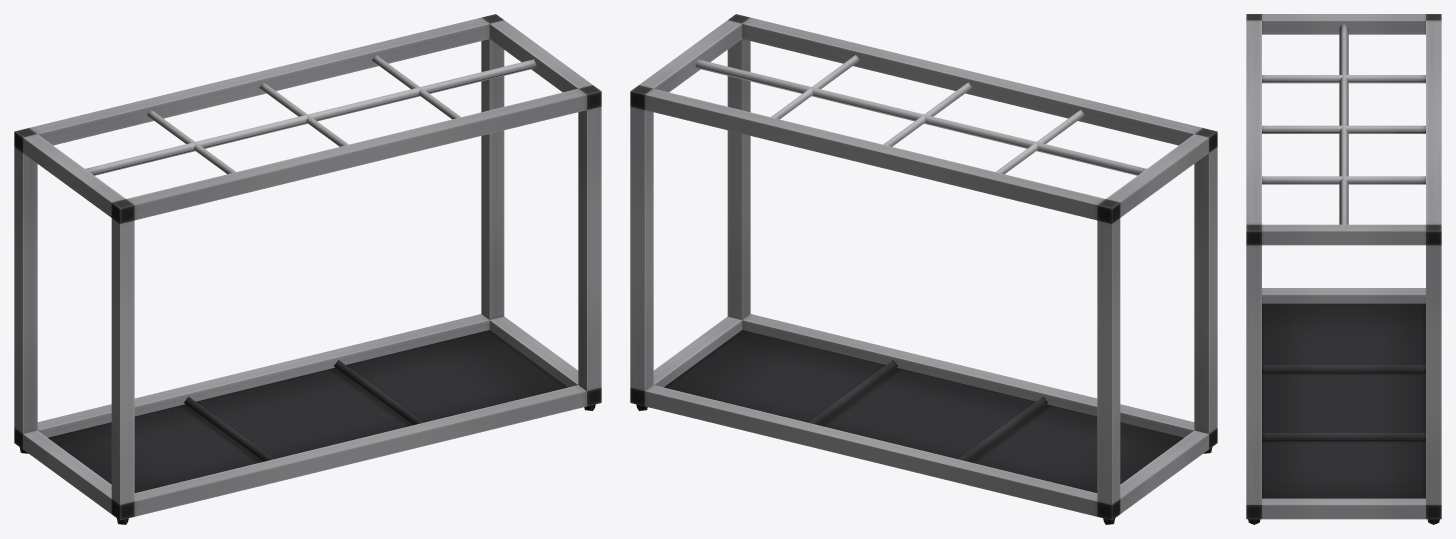
File: set_umbrellastand.fbx
3 views of the same model, side by side, from view 1: azimuth 30°, elevation 25°; view 2: azimuth 150°, elevation 25°; view 3: azimuth 270°, elevation 25° (orthographic). The views are drawn at different scales.
Parts seen in each view (by area): view 1: set_umbrellastand; view 2: set_umbrellastand; view 3: set_umbrellastand.
Boxes of the visible parts, x1=… form: set_umbrellastand: x1=14, y1=14, x2=601, y2=524; set_umbrellastand: x1=630, y1=14, x2=1217, y2=524; set_umbrellastand: x1=1246, y1=14, x2=1441, y2=524.
Bounding box in the file's own units: 79 × 50 × 30.
